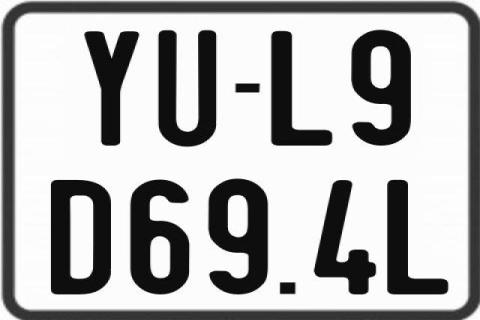0: (129, 179, 193, 299), (350, 30, 415, 148), (206, 178, 268, 294), (312, 179, 374, 295)
D: (51, 178, 113, 294)
L: (272, 30, 338, 146), (387, 179, 450, 296)
U: (158, 29, 222, 147)
Y: (83, 31, 138, 149)
